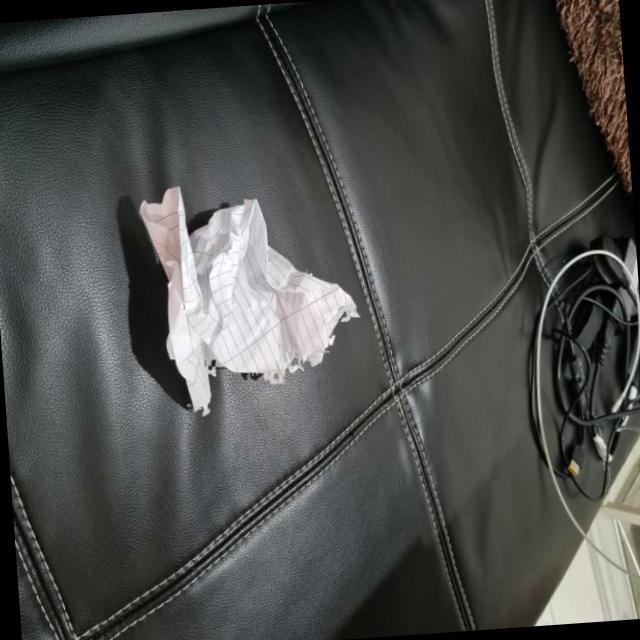cardboard paper: (141, 184, 359, 411)
